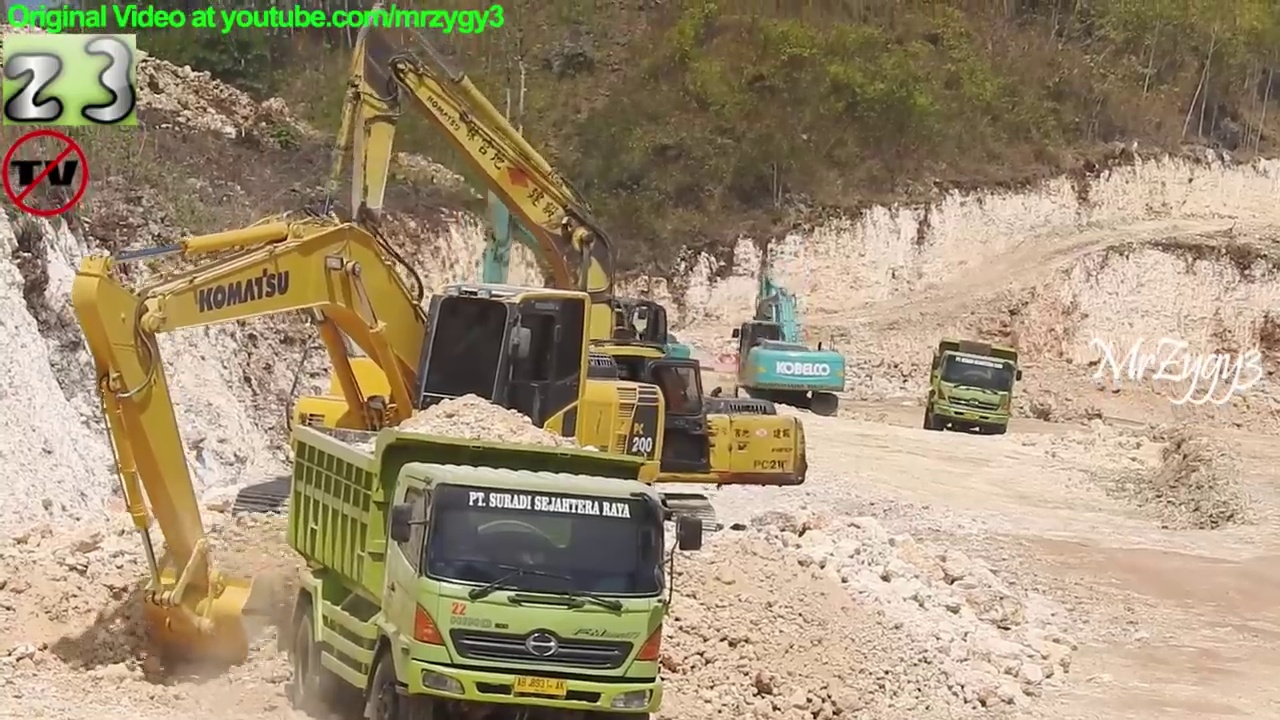excavator: (68, 210, 671, 674), (309, 3, 812, 541), (730, 248, 850, 420)
truck: (279, 414, 685, 720), (923, 333, 1026, 443)
